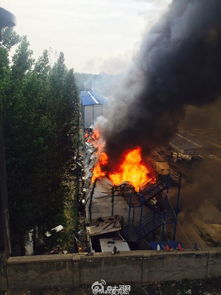fire: (85, 123, 157, 190)
